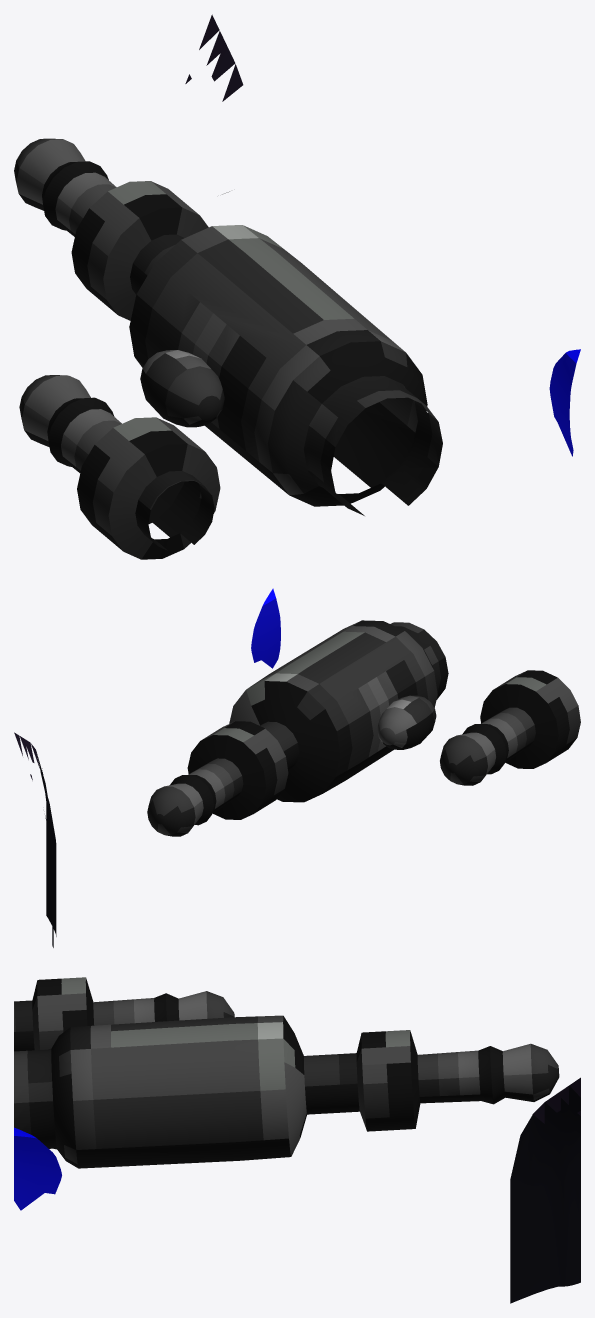
The model's file is camanis_boss_49.glb.
3 views of the same model, one above another, from view 1: azimuth 30°, elevation 25°; view 2: azimuth 150°, elevation 25°; view 3: azimuth 270°, elevation 25° (orthographic). The views are drawn at different scales.
Parts seen in each view (by area): view 1: camanis_boss_49_mast_a, camanis_boss_49_mast_b, camanis_boss_49_mast_a_valve, camanis_boss_49_lamp, camanis_boss_49_hood; view 2: camanis_boss_49_mast_a, camanis_boss_49_mast_b, camanis_boss_49_mast_a_valve, camanis_boss_49_hood, camanis_boss_49_lamp; view 3: camanis_boss_49_mast_a, camanis_boss_49_hood, camanis_boss_49_mast_b, camanis_boss_49_lamp.
Boxes of the visible parts, x1=… form: camanis_boss_49_mast_a: x1=14, y1=138, x2=442, y2=515; camanis_boss_49_mast_b: x1=19, y1=375, x2=220, y2=559; camanis_boss_49_mast_a_valve: x1=140, y1=350, x2=224, y2=427; camanis_boss_49_lamp: x1=549, y1=349, x2=580, y2=456; camanis_boss_49_hood: x1=185, y1=14, x2=243, y2=194; camanis_boss_49_mast_a: x1=147, y1=620, x2=448, y2=836; camanis_boss_49_mast_b: x1=440, y1=670, x2=580, y2=785; camanis_boss_49_mast_a_valve: x1=377, y1=695, x2=436, y2=749; camanis_boss_49_hood: x1=14, y1=732, x2=56, y2=947; camanis_boss_49_lamp: x1=251, y1=588, x2=280, y2=668; camanis_boss_49_mast_a: x1=14, y1=1015, x2=559, y2=1168; camanis_boss_49_hood: x1=510, y1=1077, x2=580, y2=1303; camanis_boss_49_mast_b: x1=14, y1=977, x2=234, y2=1051; camanis_boss_49_lamp: x1=14, y1=1127, x2=61, y2=1210.
Bounding box in the file's own units: 19.94 × 12.32 × 27.98.
